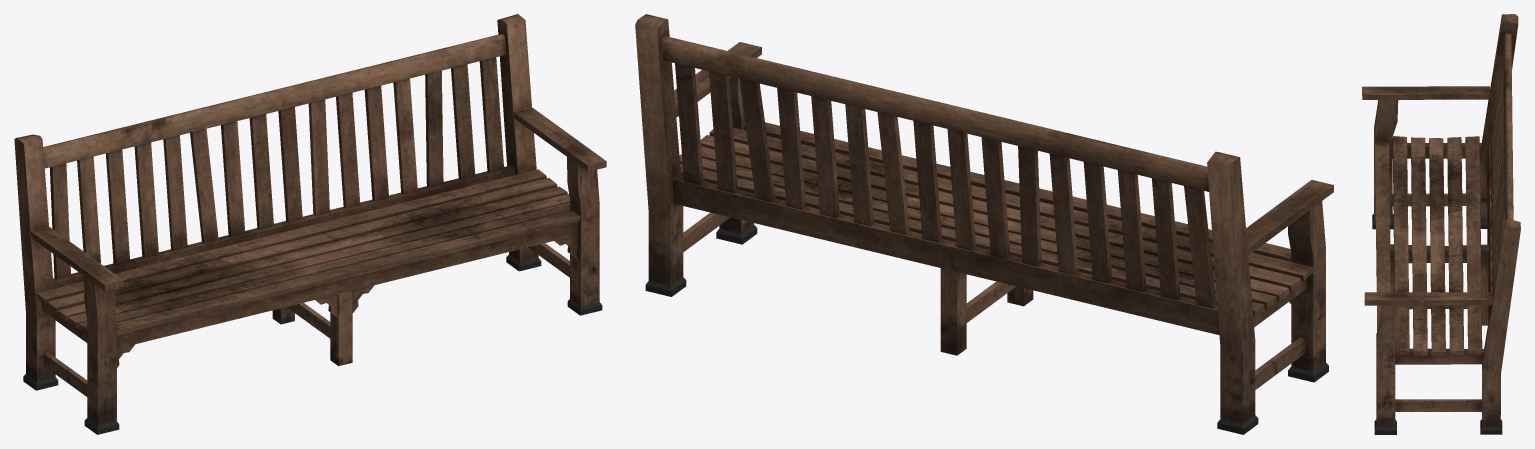
The model's file is parkbench.glb.
3 renders of one model, left to right at view 1: azimuth 30°, elevation 25°; view 2: azimuth 150°, elevation 25°; view 3: azimuth 270°, elevation 25°, orthographic. The views are drawn at different scales.
Parts seen in each view (by area): view 1: Bench_Bench Mat_0; view 2: Bench_Bench Mat_0; view 3: Bench_Bench Mat_0.
Part boxes in pixels (x1=…): Bench_Bench Mat_0: x1=14, y1=14, x2=606, y2=434; Bench_Bench Mat_0: x1=635, y1=14, x2=1333, y2=434; Bench_Bench Mat_0: x1=1362, y1=14, x2=1520, y2=434.
Size of the model in its own units: 2.66 by 1.2 by 0.8296.
1 material, 1 textured.
